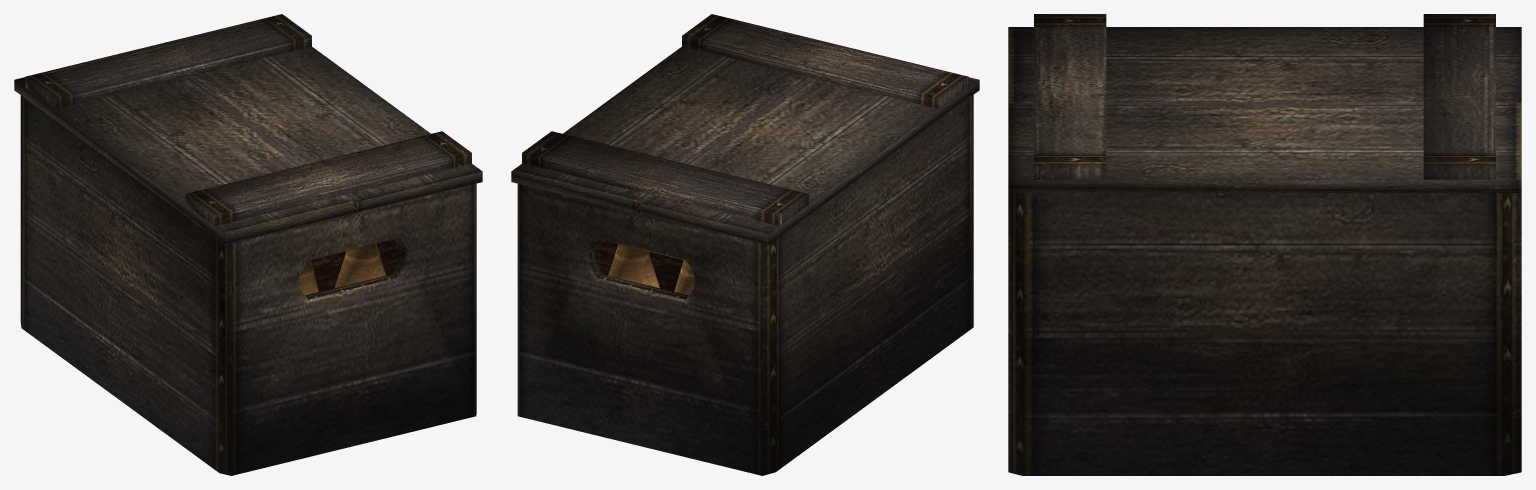
The model's file is LAKOMY_BEER_CRATE_PEASANT_01.glb.
The picture shows the model from 3 angles, left to right: view 1: azimuth 30°, elevation 25°; view 2: azimuth 150°, elevation 25°; view 3: azimuth 270°, elevation 25°; orthographic projection. The views are drawn at different scales.
Parts seen in each view (by area): view 1: Mesh; view 2: Mesh; view 3: Mesh.
Part boxes in pixels (x1,y1,x2,y2): Mesh: (14, 14, 482, 475); Mesh: (511, 14, 979, 475); Mesh: (1008, 14, 1521, 475).
Size of the model in its own units: 0.4208 by 0.3972 by 0.5976.
2 materials, 2 textured.
